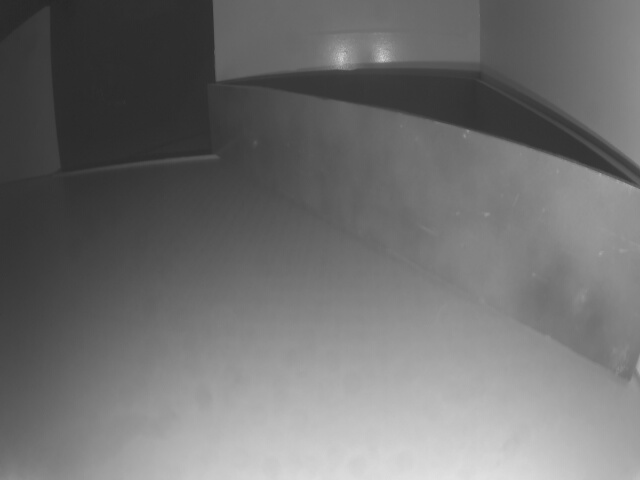Green: (206, 84, 640, 380)
